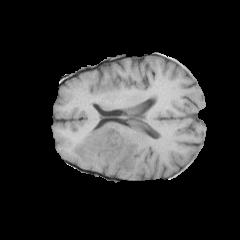glioma: (72, 123, 139, 173)
